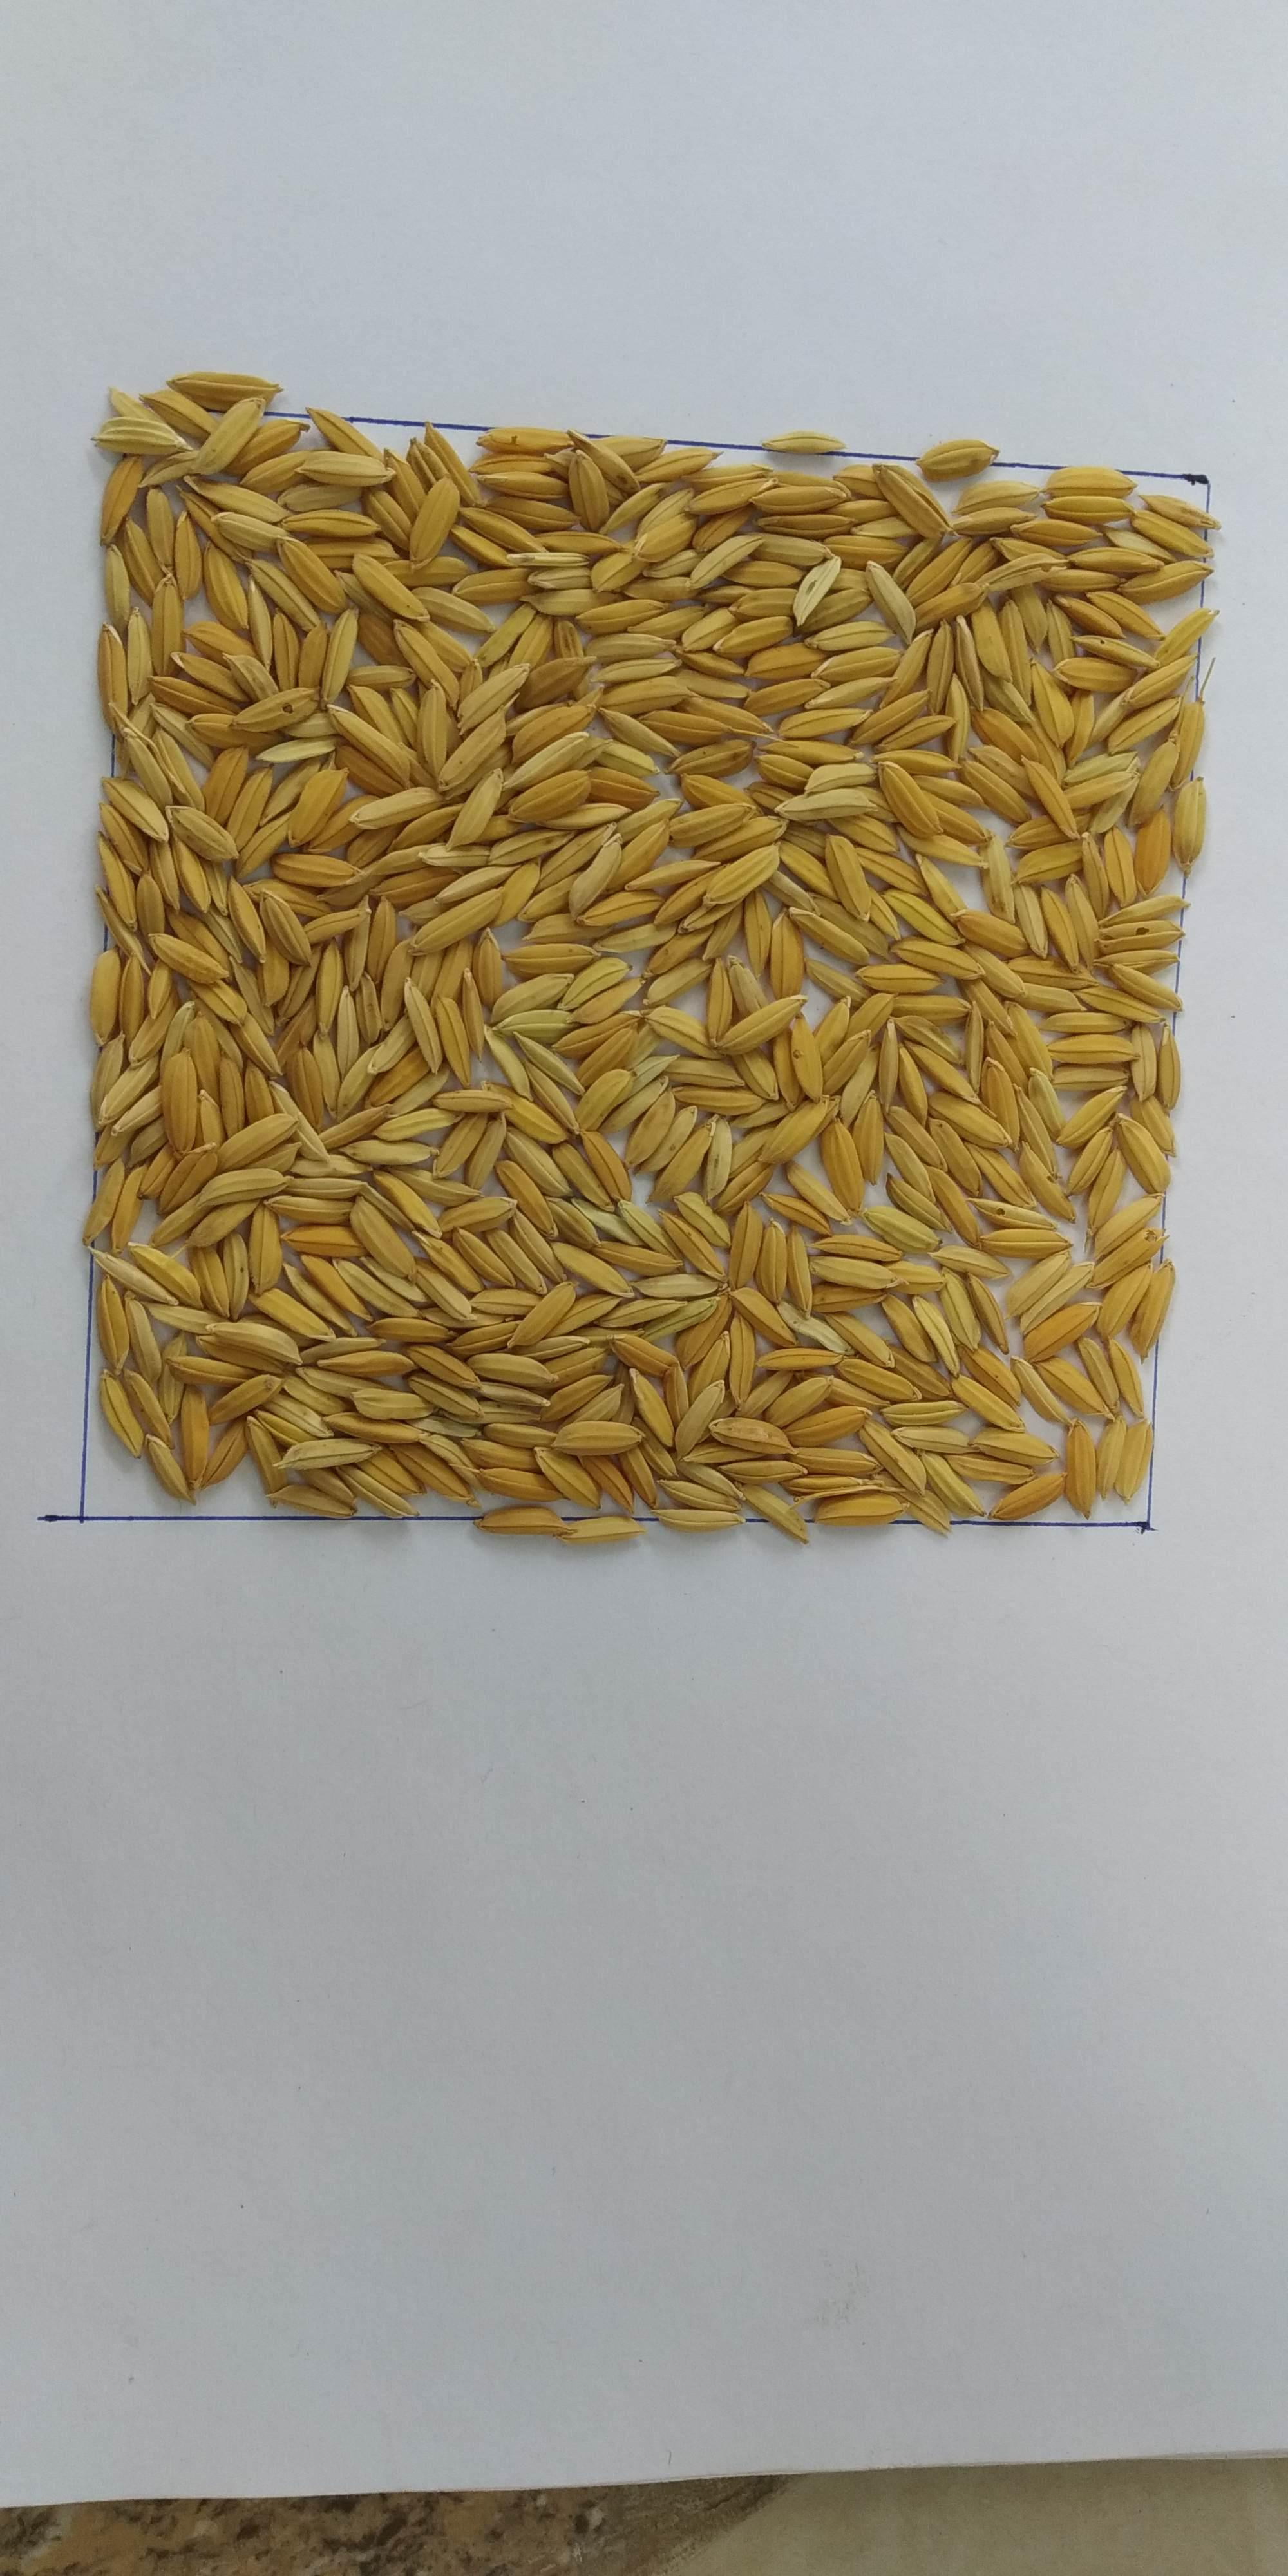pure: (164, 495, 1106, 1485)
